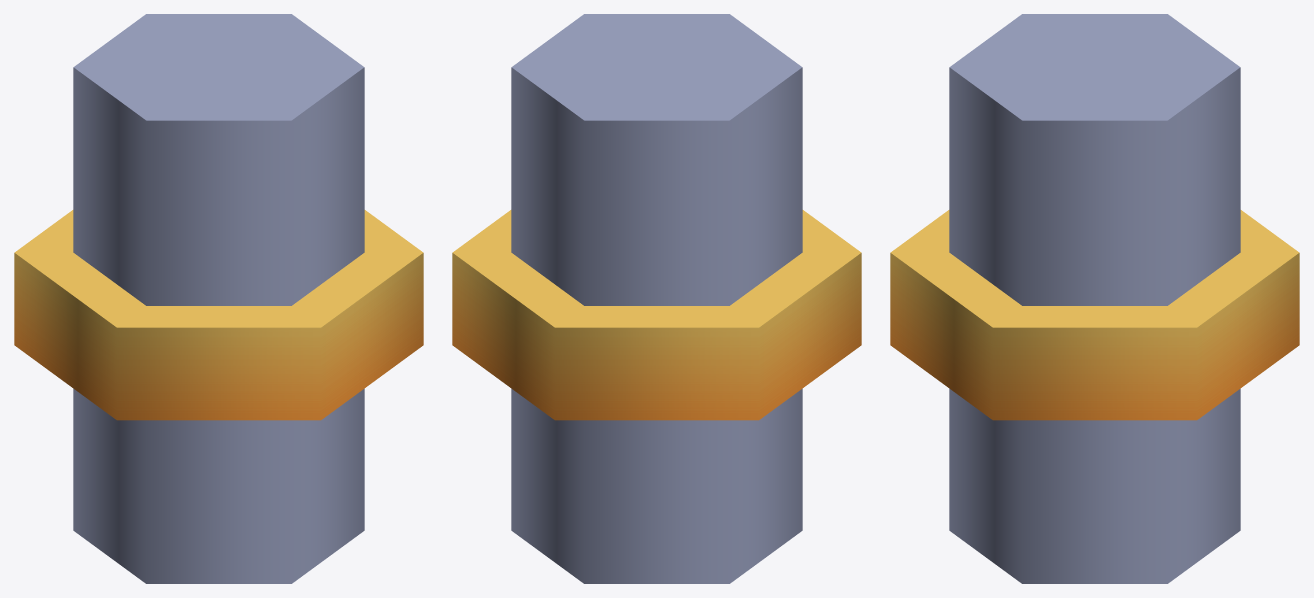
The model's file is scifi-pipe-ring-colored.fbx.
3 views of the same model, side by side, from view 1: azimuth 30°, elevation 25°; view 2: azimuth 150°, elevation 25°; view 3: azimuth 270°, elevation 25° (orthographic).
Visible parts, largest first — view 1: scifi-pipe-ring-colored; view 2: scifi-pipe-ring-colored; view 3: scifi-pipe-ring-colored.
Boxes of the visible parts, x1,y1,x2,y2 form: scifi-pipe-ring-colored: (14,14,423,583); scifi-pipe-ring-colored: (452,14,861,583); scifi-pipe-ring-colored: (890,14,1299,583).
Bounding box in the file's own units: 0.3464 × 0.4 × 0.5.
